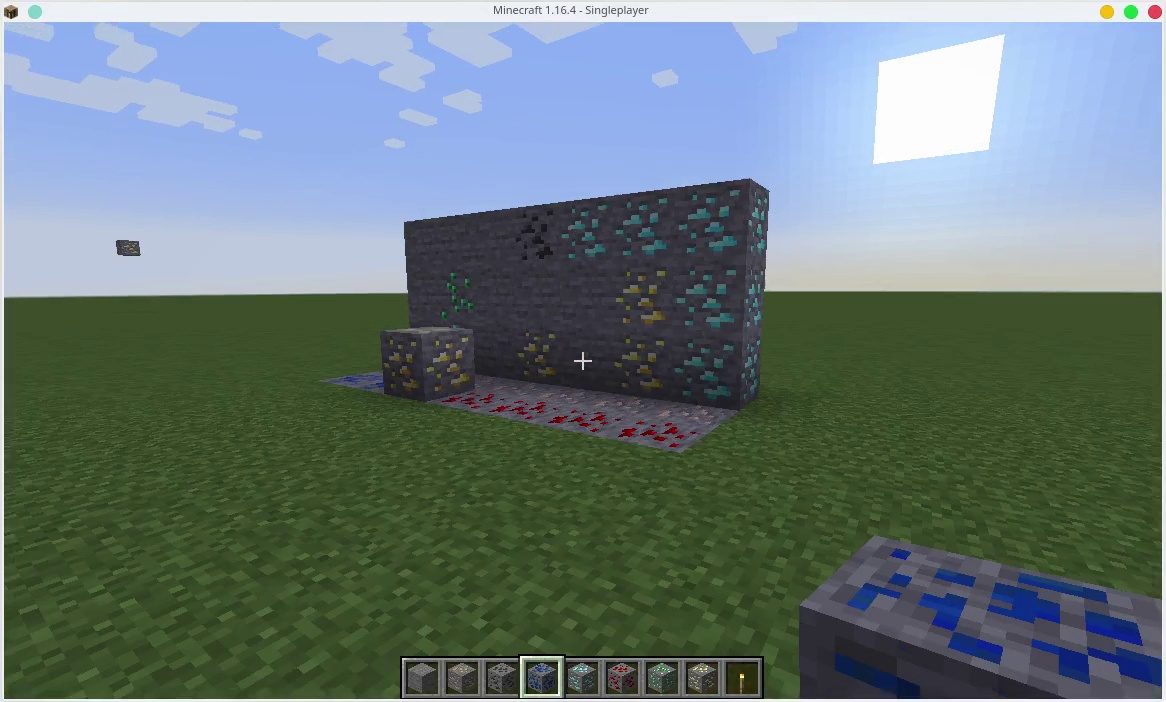gold: (375, 326, 478, 398), (615, 264, 675, 329), (610, 333, 660, 390), (514, 328, 562, 379), (689, 665, 718, 690)
